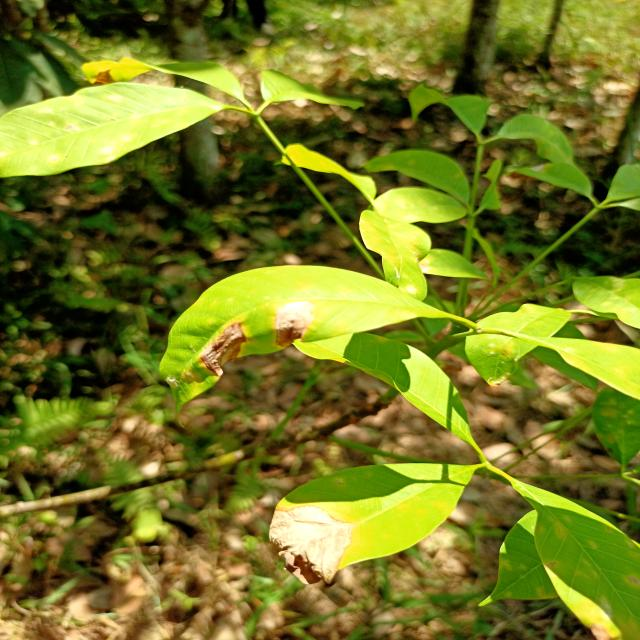Leaf-Blight: (268, 504, 354, 585), (201, 322, 248, 377), (274, 300, 315, 348)
